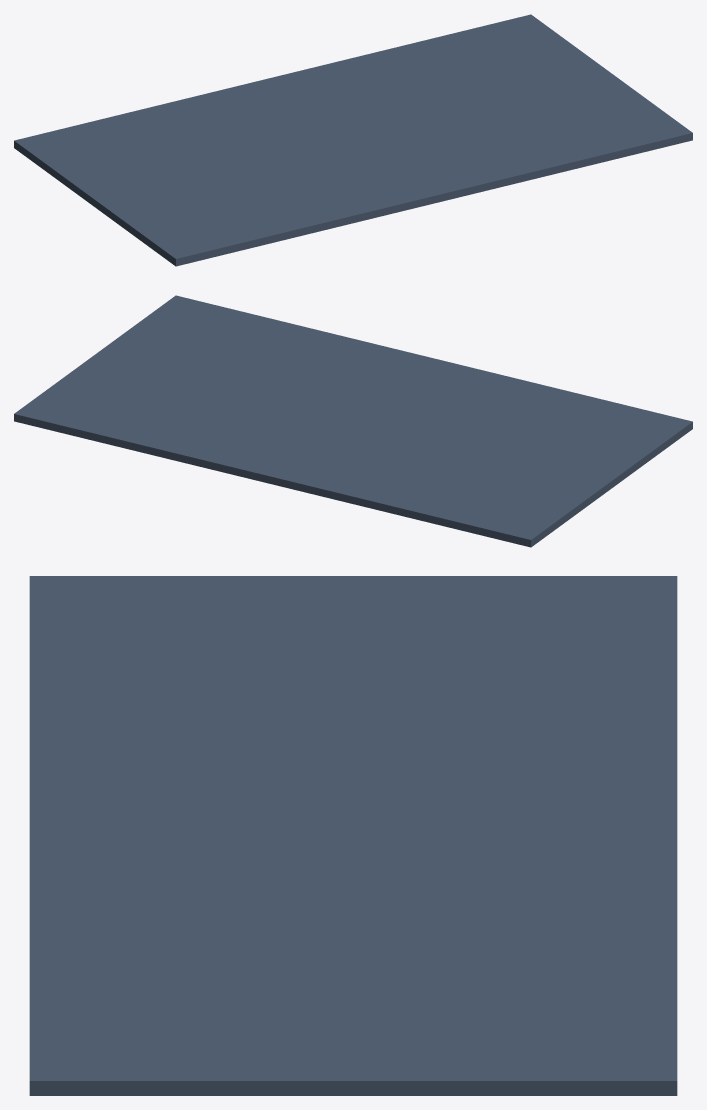
The model's file is floor_geometry.obj.
3 views of the same model, one above another, from view 1: azimuth 30°, elevation 25°; view 2: azimuth 150°, elevation 25°; view 3: azimuth 270°, elevation 25° (orthographic). The views are drawn at different scales.
Visible parts, largest first — view 1: Floor_002_u_medbay_palata_nablyudeniya_floor, Floor_001_u_medbay_procedurnaya_floor, Floor_003_u_medbay_korotkiy_chistyy_koridor_2_2_floor, Floor_005_u_medbay_priemnaya_triazh_floor, Floor_006_u_medbay_medpost_zapisi_floor, Floor_004_u_medbay_chistyy_floor, Floor_007_u_medbay_sanitarnyy_floor; view 2: Floor_001_u_medbay_procedurnaya_floor, Floor_002_u_medbay_palata_nablyudeniya_floor, Floor_003_u_medbay_korotkiy_chistyy_koridor_2_2_floor, Floor_005_u_medbay_priemnaya_triazh_floor, Floor_006_u_medbay_medpost_zapisi_floor, Floor_004_u_medbay_chistyy_floor, Floor_007_u_medbay_sanitarnyy_floor; view 3: Floor_001_u_medbay_procedurnaya_floor, Floor_002_u_medbay_palata_nablyudeniya_floor, Floor_003_u_medbay_korotkiy_chistyy_koridor_2_2_floor, Floor_005_u_medbay_priemnaya_triazh_floor, Floor_006_u_medbay_medpost_zapisi_floor, Floor_007_u_medbay_sanitarnyy_floor, Floor_004_u_medbay_chistyy_floor.
Boxes of the visible parts, x1=… form: Floor_002_u_medbay_palata_nablyudeniya_floor: x1=98, y1=131, x2=466, y2=266; Floor_001_u_medbay_procedurnaya_floor: x1=14, y1=69, x2=388, y2=209; Floor_003_u_medbay_korotkiy_chistyy_koridor_2_2_floor: x1=305, y1=50, x2=546, y2=195; Floor_005_u_medbay_priemnaya_triazh_floor: x1=438, y1=53, x2=645, y2=134; Floor_006_u_medbay_medpost_zapisi_floor: x1=500, y1=99, x2=692, y2=175; Floor_004_u_medbay_chistyy_floor: x1=385, y1=32, x2=512, y2=89; Floor_007_u_medbay_sanitarnyy_floor: x1=460, y1=14, x2=584, y2=70; Floor_001_u_medbay_procedurnaya_floor: x1=240, y1=407, x2=615, y2=547; Floor_002_u_medbay_palata_nablyudeniya_floor: x1=325, y1=350, x2=692, y2=485; Floor_003_u_medbay_korotkiy_chistyy_koridor_2_2_floor: x1=160, y1=331, x2=401, y2=476; Floor_005_u_medbay_priemnaya_triazh_floor: x1=68, y1=329, x2=275, y2=410; Floor_006_u_medbay_medpost_zapisi_floor: x1=129, y1=295, x2=321, y2=364; Floor_004_u_medbay_chistyy_floor: x1=85, y1=392, x2=213, y2=456; Floor_007_u_medbay_sanitarnyy_floor: x1=14, y1=374, x2=138, y2=438; Floor_001_u_medbay_procedurnaya_floor: x1=339, y1=576, x2=677, y2=860; Floor_002_u_medbay_palata_nablyudeniya_floor: x1=29, y1=576, x2=339, y2=860; Floor_003_u_medbay_korotkiy_chistyy_koridor_2_2_floor: x1=29, y1=860, x2=677, y2=937; Floor_005_u_medbay_priemnaya_triazh_floor: x1=215, y1=937, x2=462, y2=1095; Floor_006_u_medbay_medpost_zapisi_floor: x1=29, y1=937, x2=215, y2=1095; Floor_007_u_medbay_sanitarnyy_floor: x1=463, y1=1011, x2=677, y2=1095; Floor_004_u_medbay_chistyy_floor: x1=463, y1=937, x2=677, y2=1011.
Bounding box in the file's own units: 14.44 × 0.2 × 7.83.
